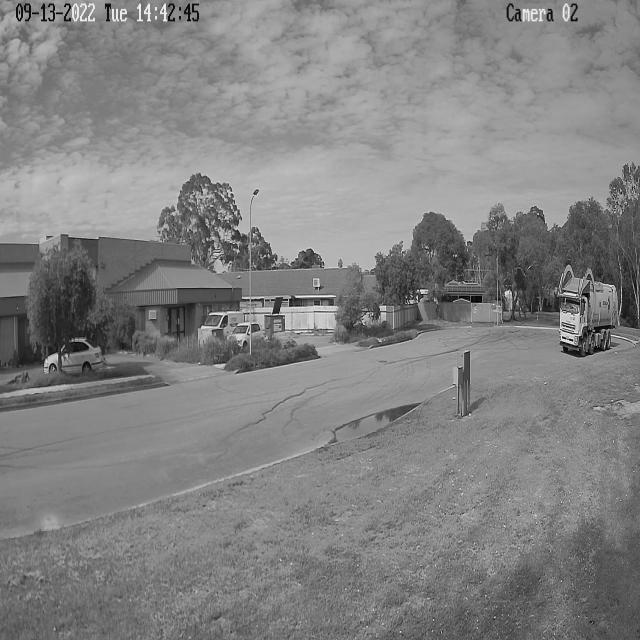Garbage Truck: (557, 264, 621, 358)
Sedan: (44, 337, 104, 374)
